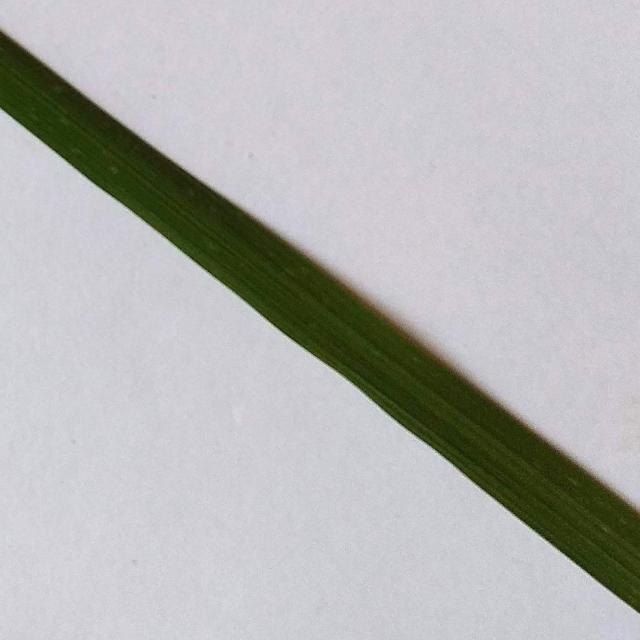healthy: (0, 25, 638, 611)
